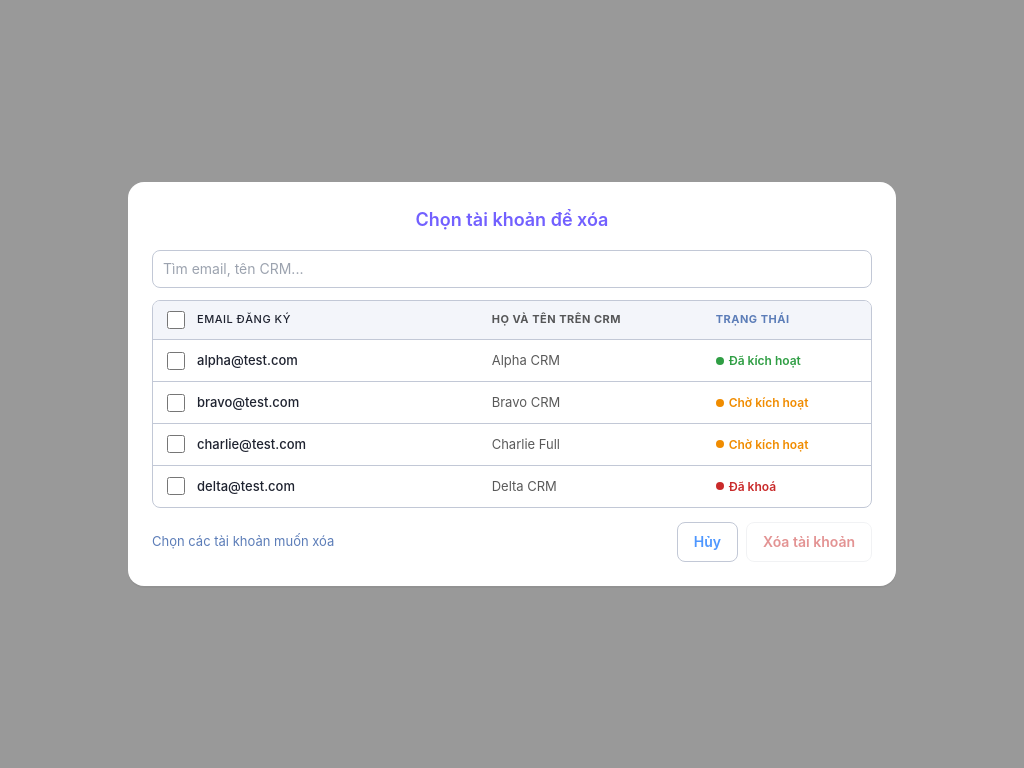
Test case: DeleteAccountsModal › bước xác nhận liệt kê các email sẽ bị xóa
The width and height of the screenshot is (1024, 768).
Click the text "alpha@test.com".
click(512, 361)  # box [153,340,871,382]
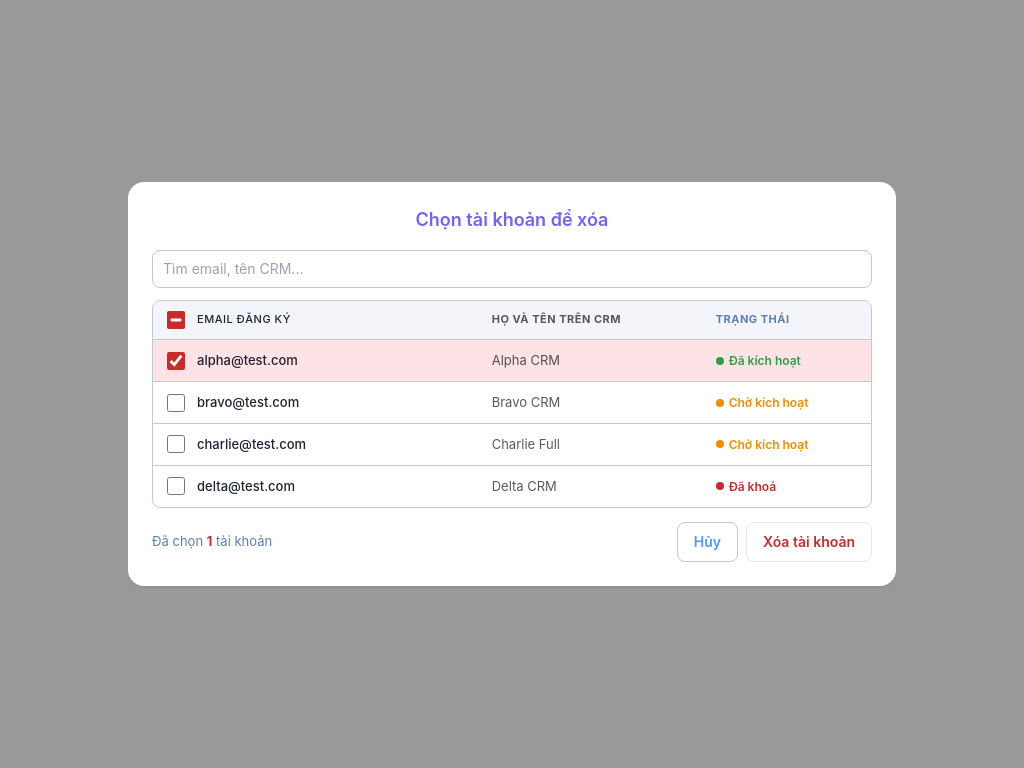
Click the text "charlie@test.com".
click(512, 445)  # box [153,424,871,466]
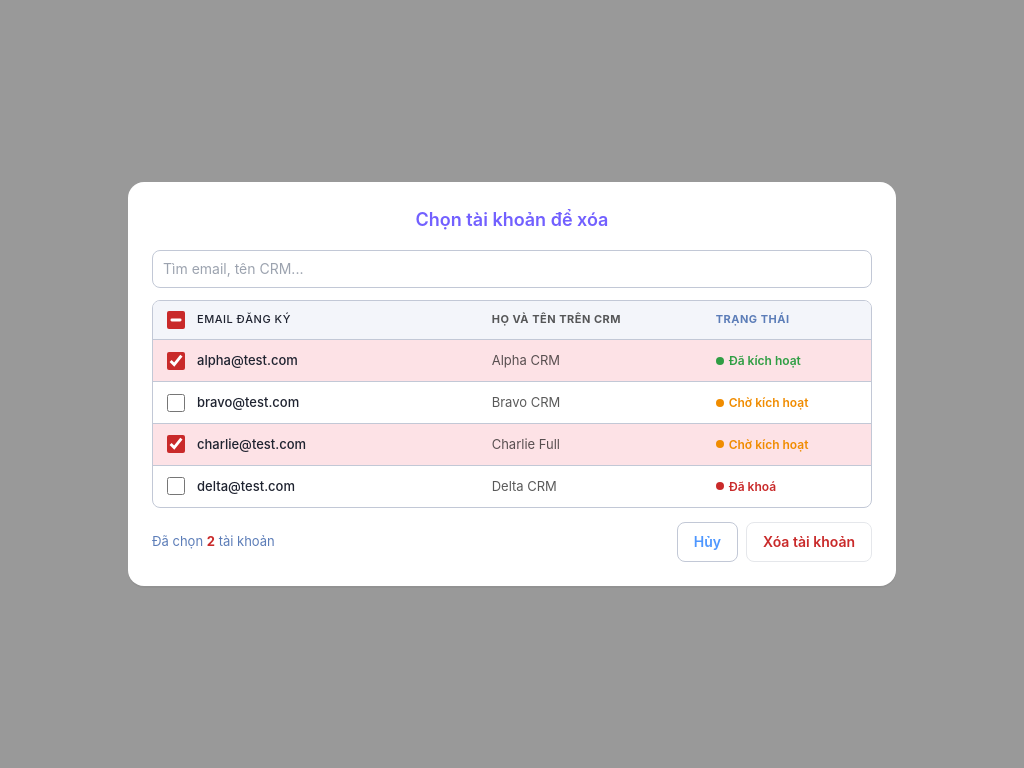
Click the button "Xóa tài khoản".
click(809, 542)  # box [746,522,872,562]
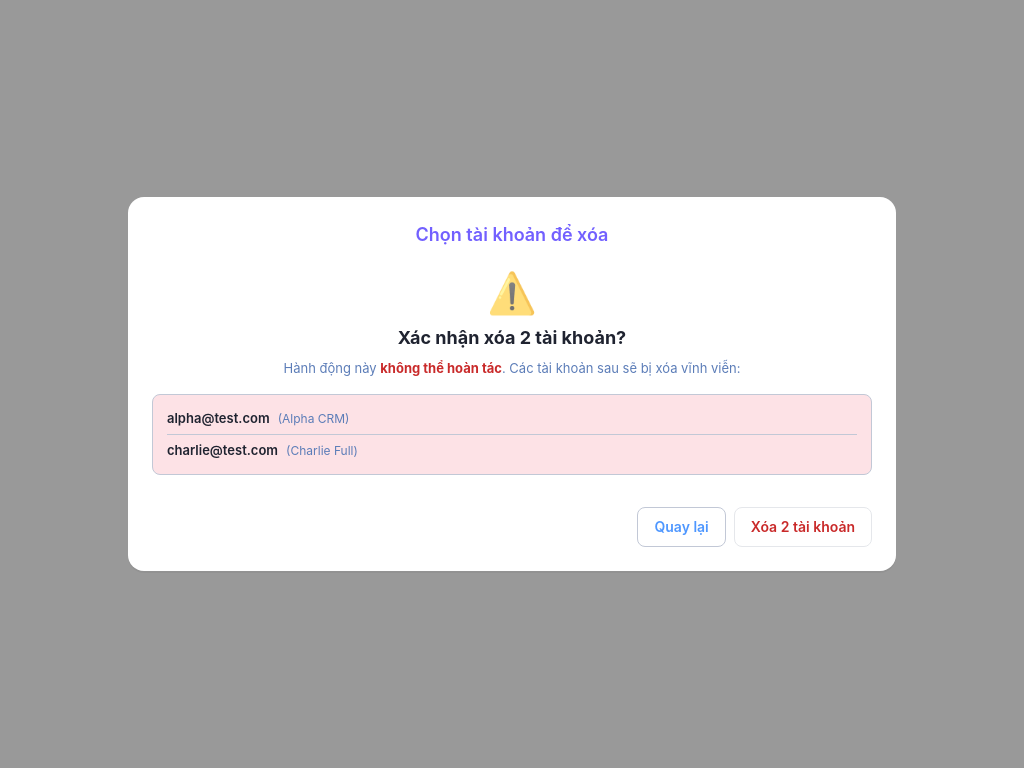
Check: the text "alpha@test.com" is shown, box [167,409,270,428]
Check: the text "Xác nhận xóa 2 tài khoản?" is shown, box [398,327,626,348]
Check: the button "Xóa 2 tài khoản" is shown, box [734,507,872,547]
